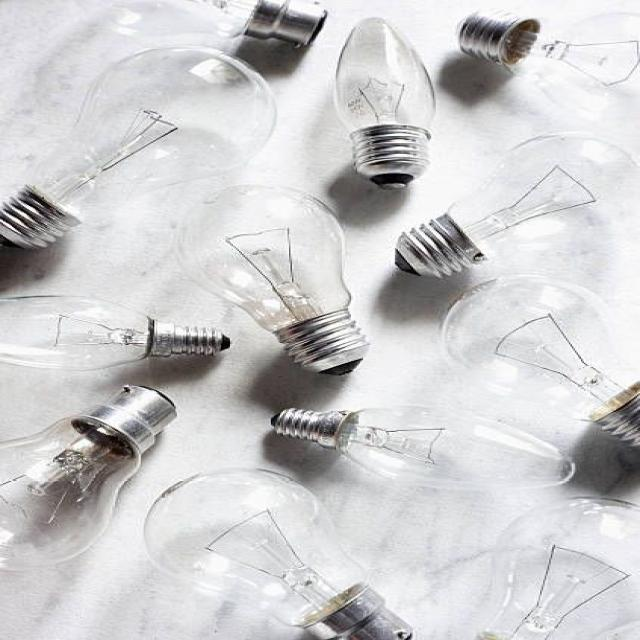electronic: (0, 44, 277, 250), (142, 465, 415, 639), (171, 182, 369, 375), (392, 131, 637, 279), (438, 273, 638, 446), (0, 383, 177, 570), (268, 404, 576, 492), (475, 495, 639, 639), (331, 16, 436, 189), (0, 293, 230, 371), (454, 8, 638, 87), (71, 0, 327, 50)
